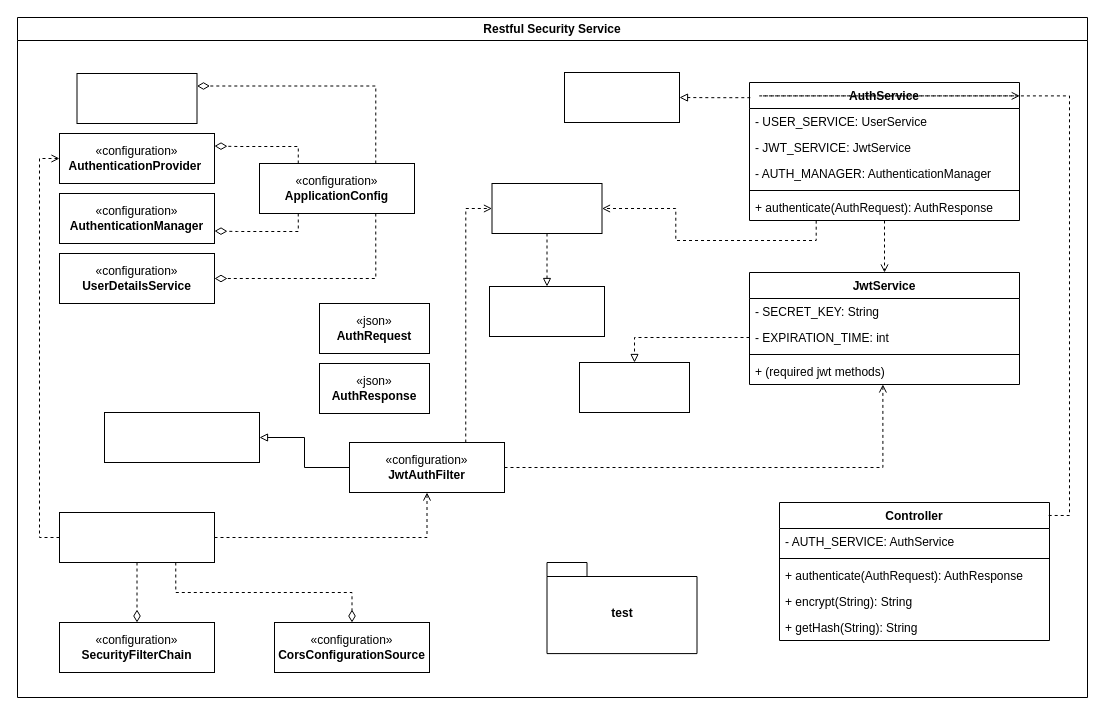
Image size: 1105x715. Some labels were removed from this diagram. Here are the shapes that lost their labels. From the top down, the centre of each, then its label:
At [136,98]: "«configuration» PasswordEncoder".
At [622,97]: "«interface» IAuthFunctionality".
At [546,208]: "UserService".
At [546,311]: "«interface» IUserFunctionality".
At [634,387]: "«interface» IJwtFunctionality".
At [182,437]: "«configuration» OncePerRequestFilter".
At [136,537]: "«configuration» SecurityConfig".
